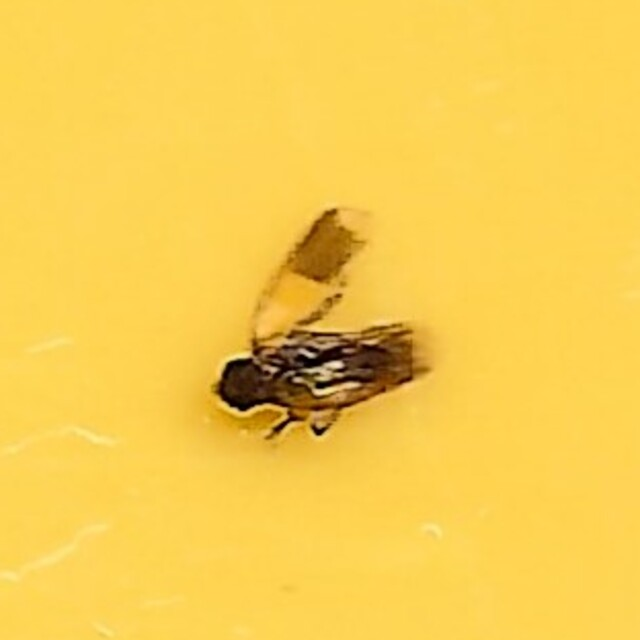Hemiptera: (205, 203, 435, 437)
